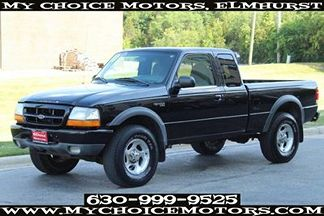Vehicle: (8, 44, 321, 188)
